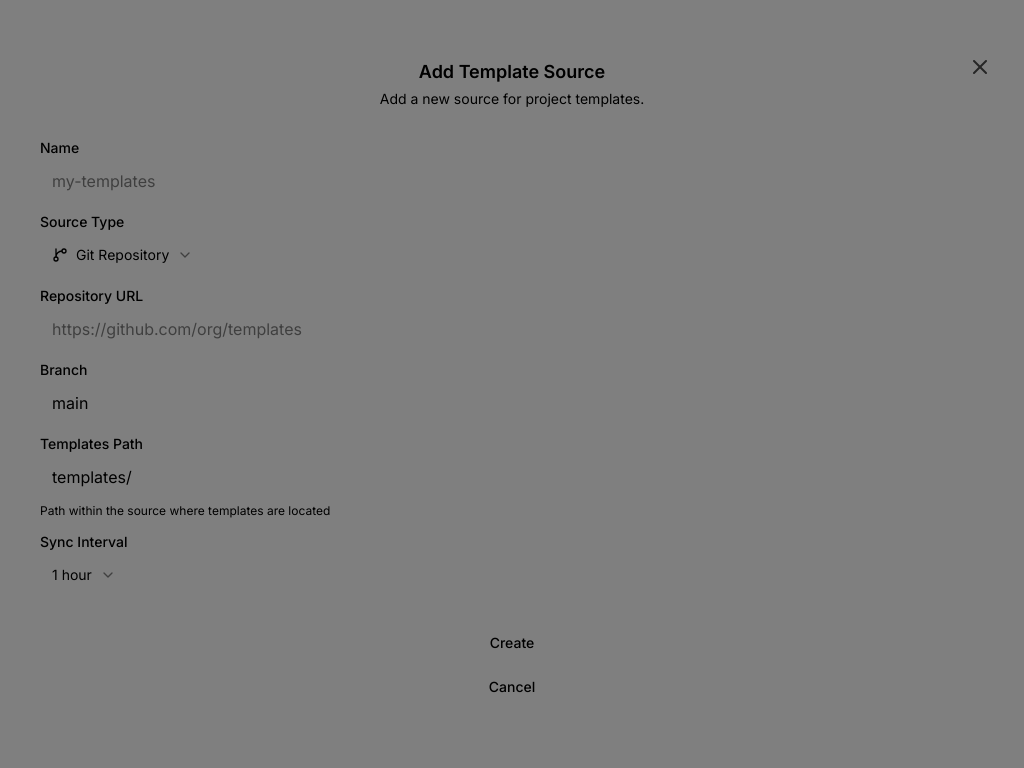
Scenario: TemplateSourceDialog › validates git URL when git type selected
The image size is (1024, 768).
Type "my-source" into the field labelled "Name" at [512, 181], box top-left (40, 163), bottom-right (984, 199)
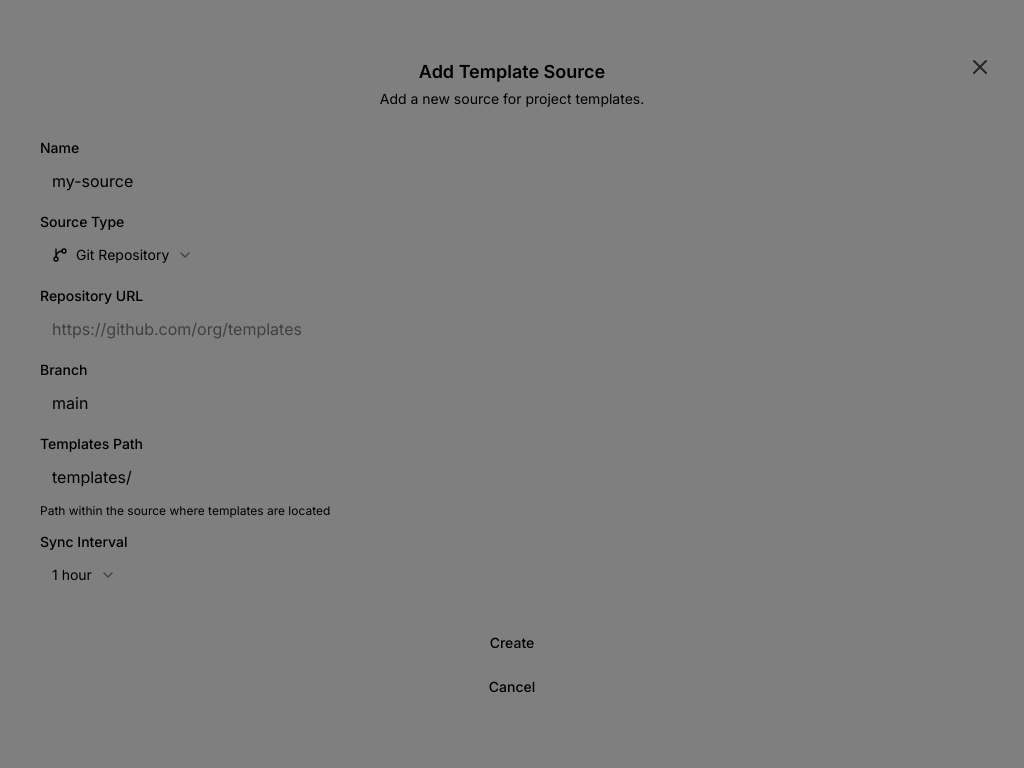
Click the button "Create" at [512, 643], box top-left (40, 625), bottom-right (984, 661)
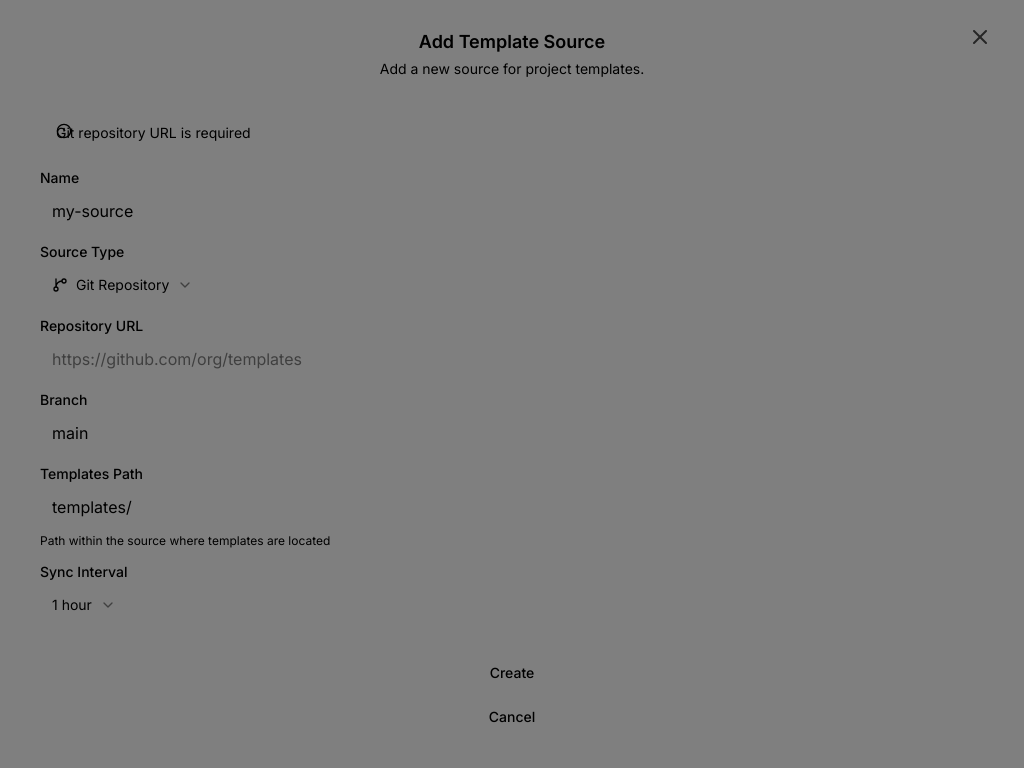
Expected: the text "Git repository URL is required" is shown, top-left (56, 124), bottom-right (251, 141)
